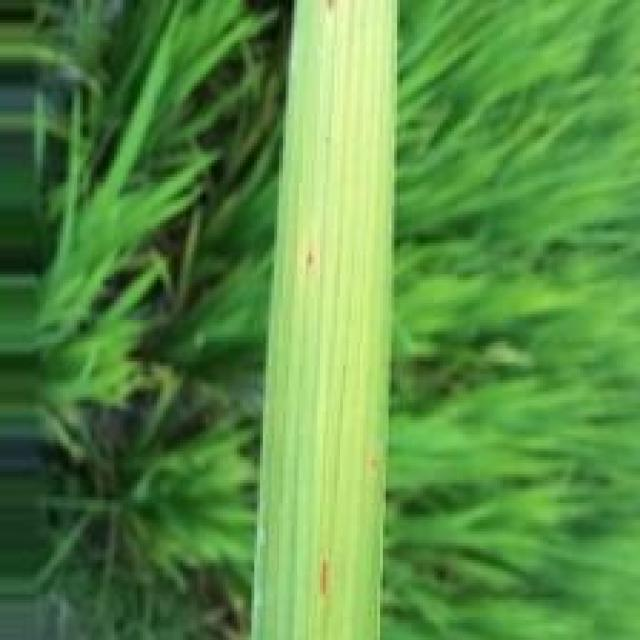Brown_Spot: (317, 557, 331, 599), (300, 246, 318, 268)
